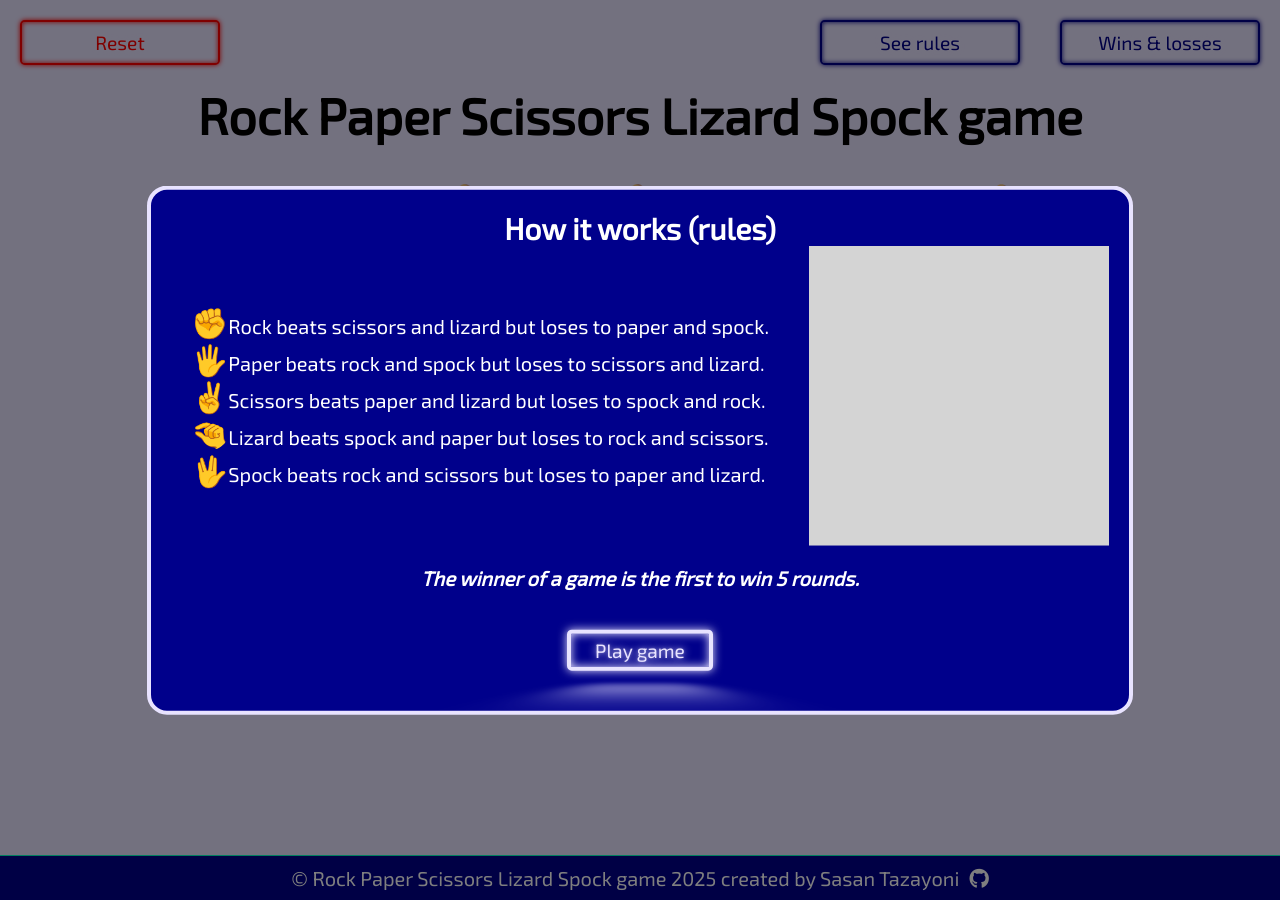
it: Rules Modal Close Behavior › clicking the Rules modal close button closes the Rules modal
This screenshot has width=1280, height=900.
Expected: the dialog with test id "rules-modal" is shown, [147, 186, 1133, 714]
Click the button "Play game": [640, 650] box [567, 630, 713, 670]
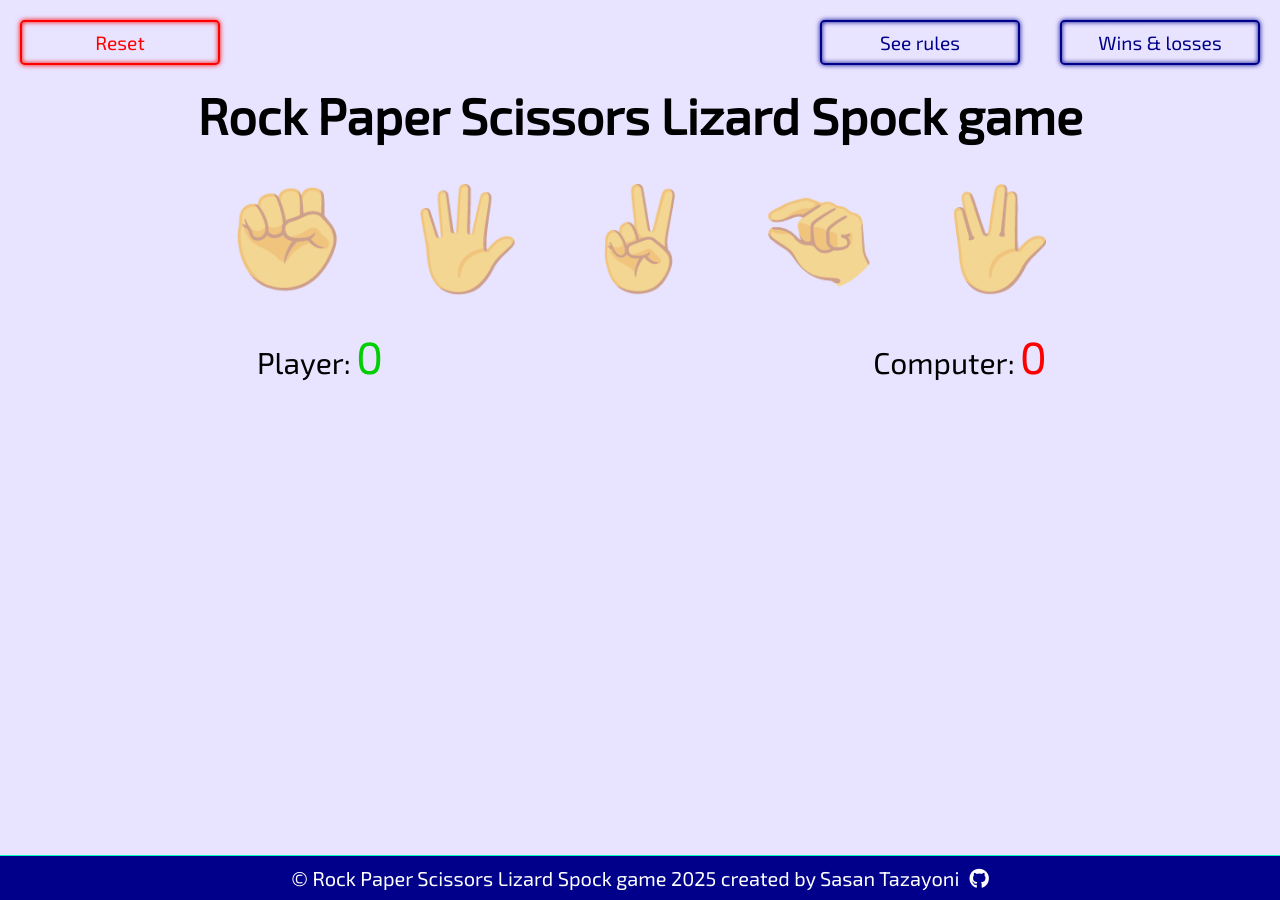
Now the dialog with test id "rules-modal" is gone
